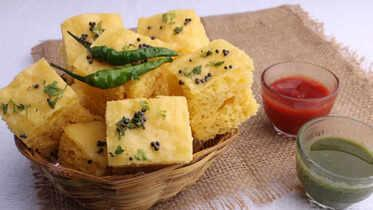yellow dhokla: (0, 10, 261, 176)
